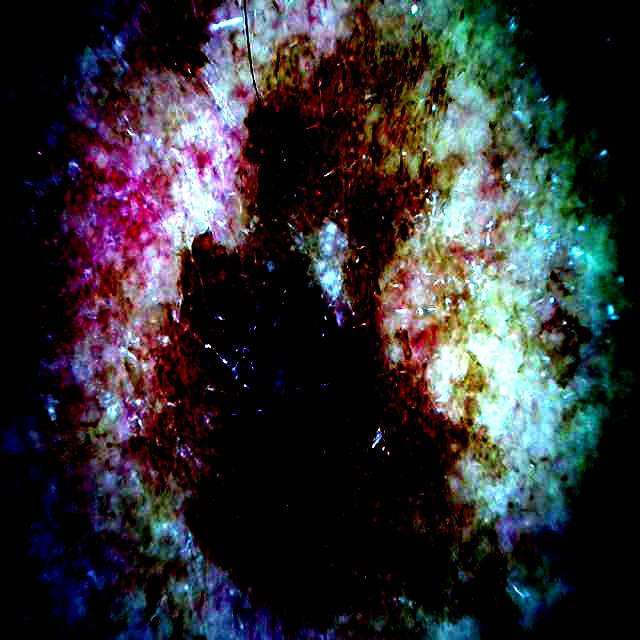BKL: (161, 3, 496, 615)
